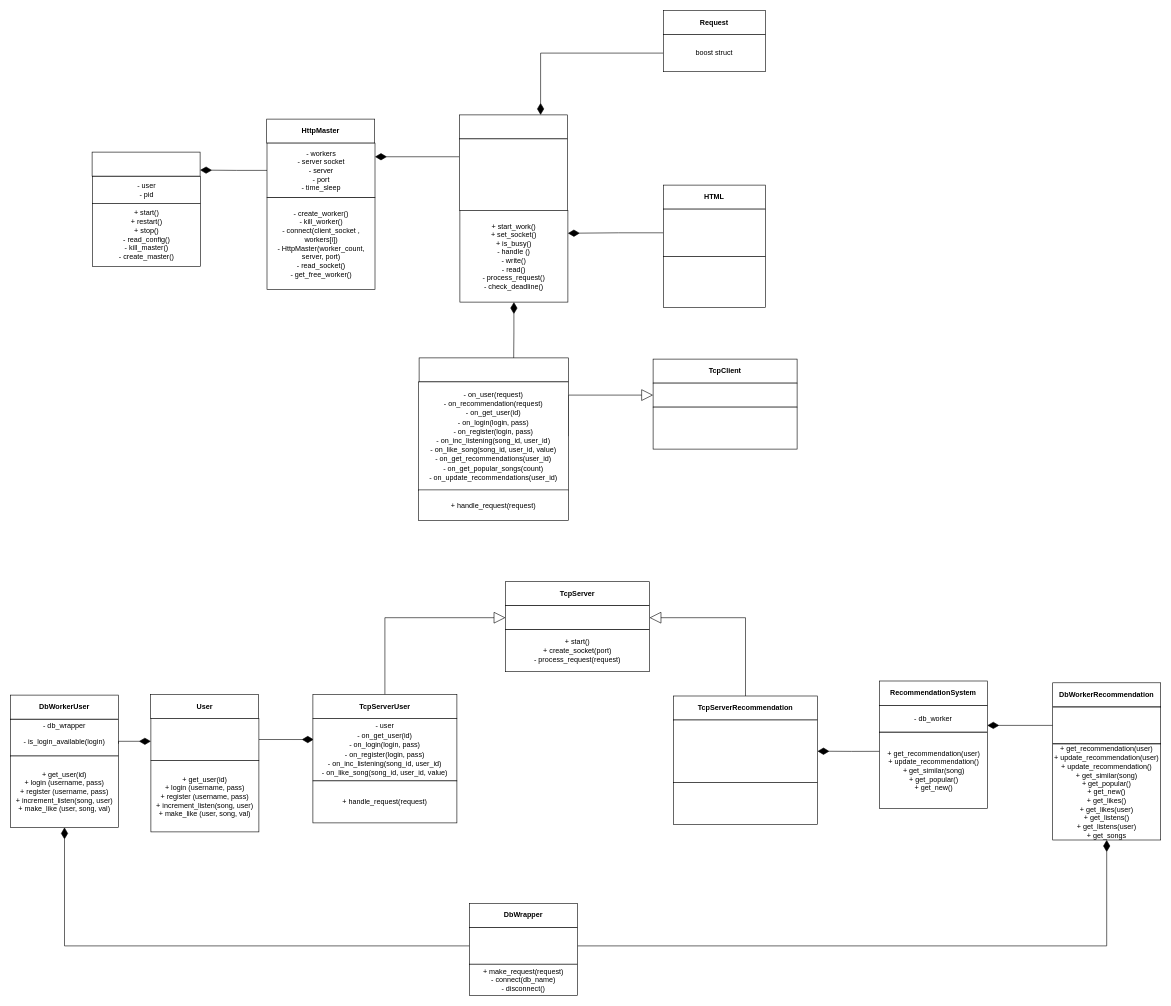
Image size: 1171x1006. Some labels were removed from this diagram. Here are the shapes that lost their labels. From the top down, the centre of each, then its label:
point (513, 126): HttpWorker
point (146, 164): WebServer
point (513, 174): - timeout - request - client_socket - busy - html - manager
point (714, 232): - file_path - html_string
point (714, 282): + get_html_string() + create_html(data)
point (493, 369): Manager
point (204, 739): - db_worker - user
point (1106, 725): - db_wrapper
point (523, 945): - sqlite_db
